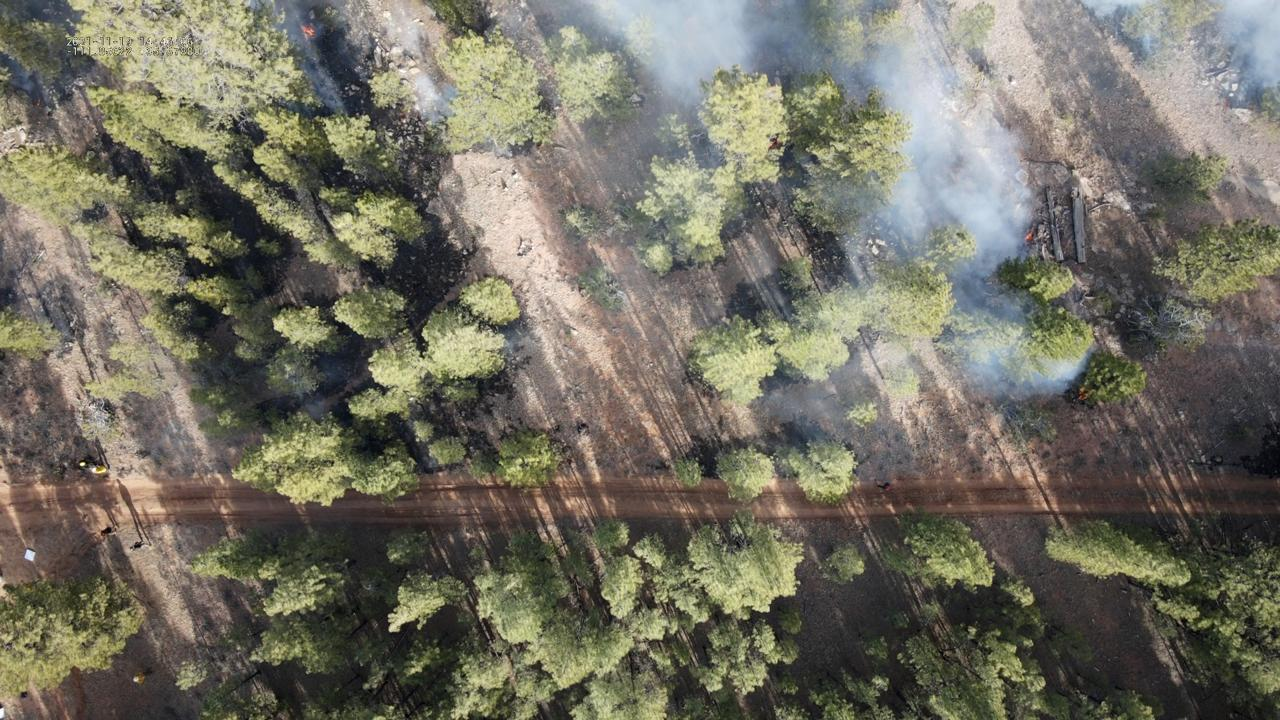fire: (1077, 386, 1089, 402), (302, 26, 316, 37), (1024, 231, 1034, 242), (36, 98, 41, 106)
smoke: (599, 0, 1097, 407), (250, 0, 353, 117), (1201, 0, 1280, 106), (1081, 0, 1166, 57), (413, 75, 460, 125), (0, 53, 34, 95), (300, 393, 328, 422)
